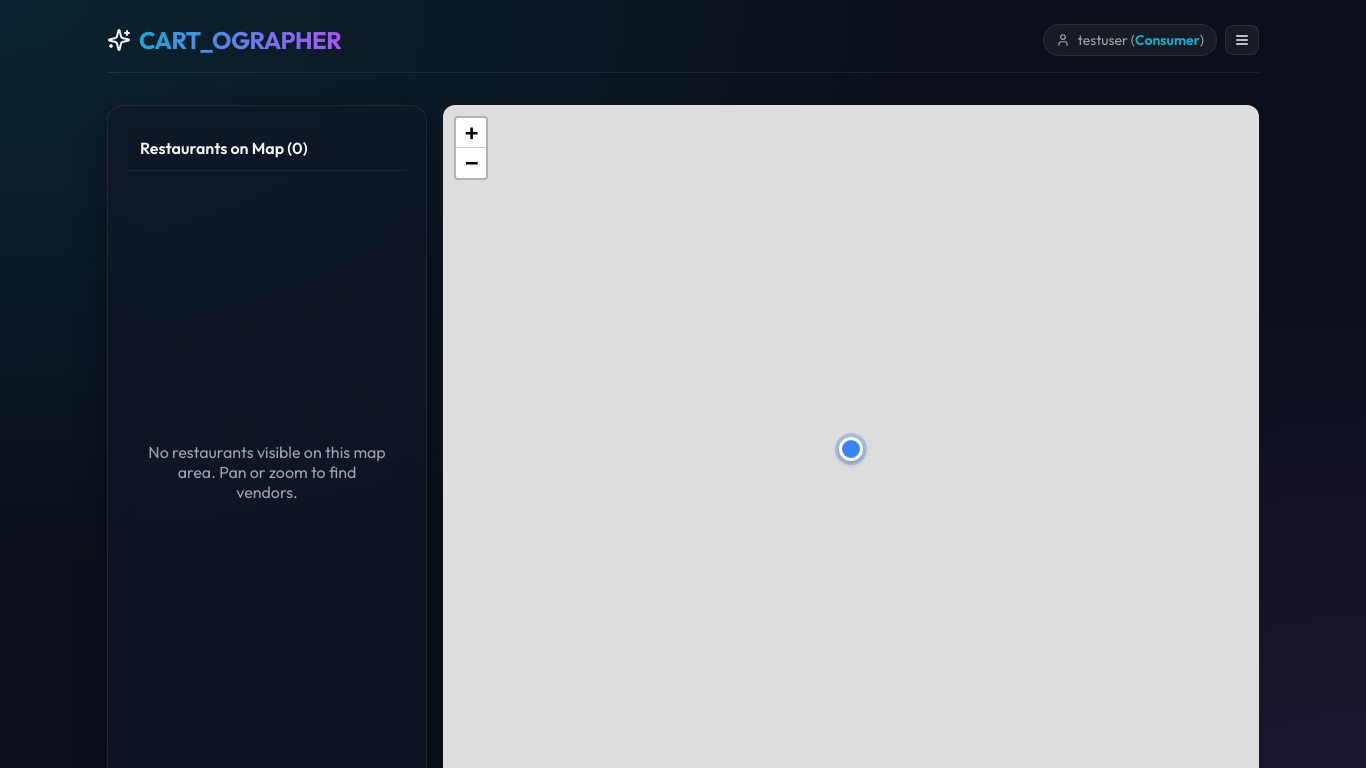
Scenario: Web UI - App Component › Consumer favorites view loads and displays favorited restaurants
Click the button named "menu" at (1242, 40), box [1225,25,1259,55]
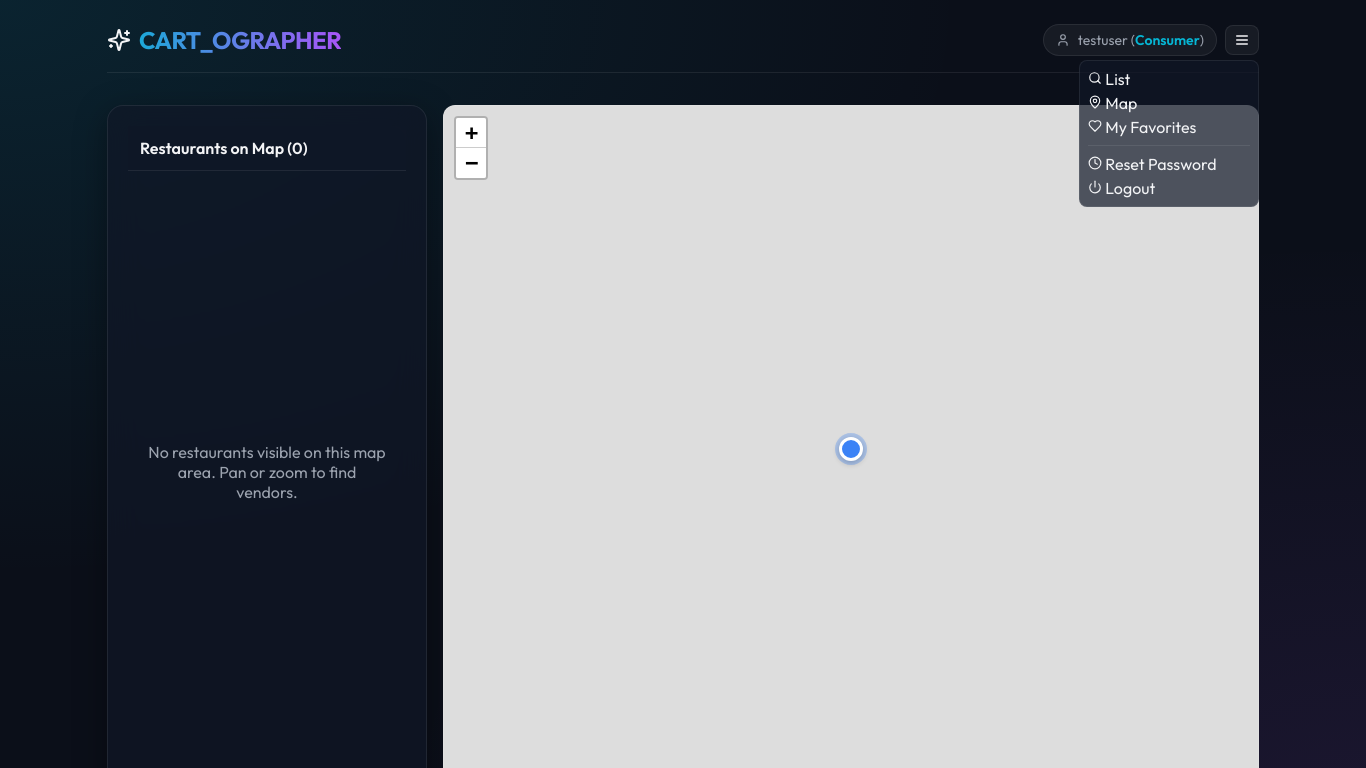
Click the text "My Favorites" at (1142, 127), box [1088,117,1196,137]
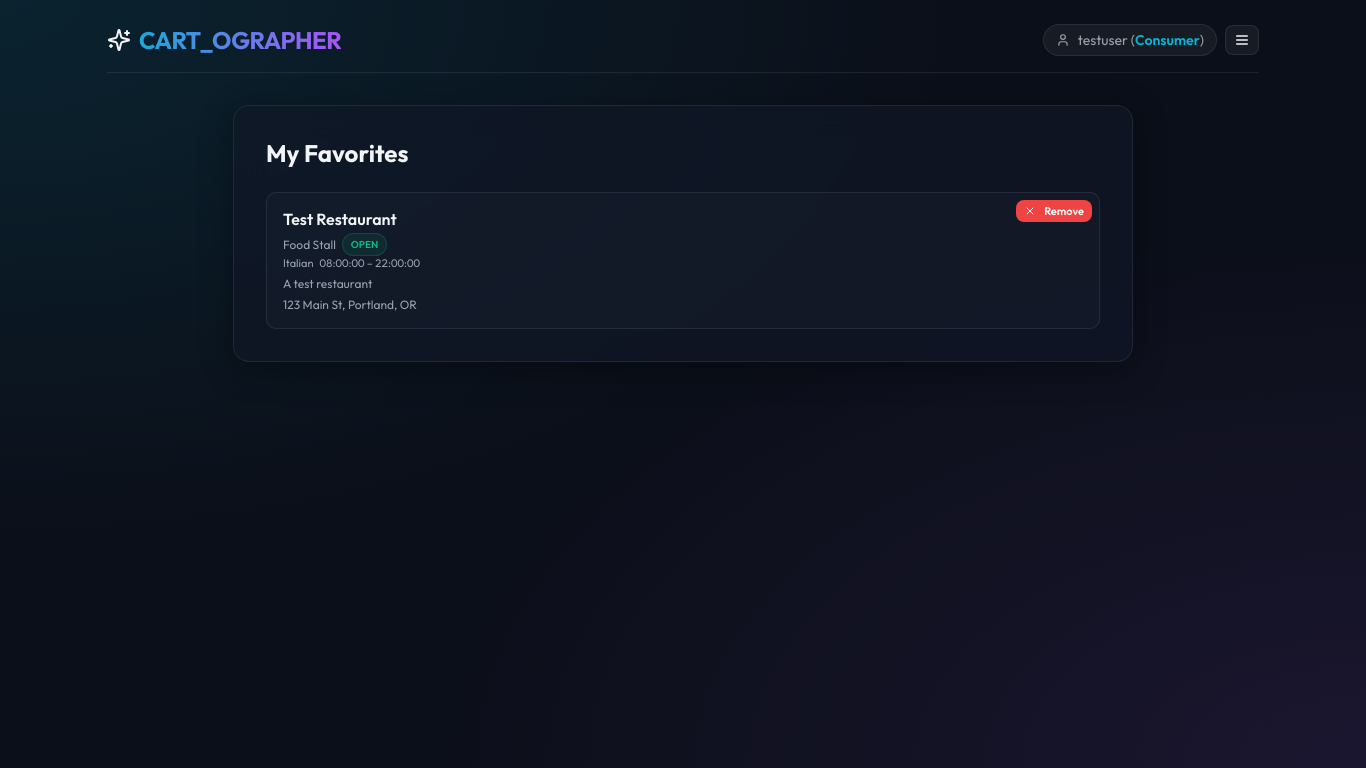
Expected: the text "Test Restaurant" is shown, [283,209,397,229]
